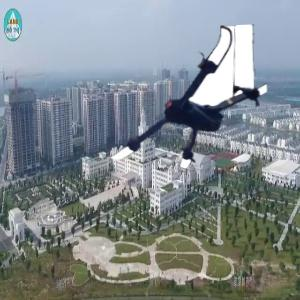drone: (103, 28, 270, 195)
